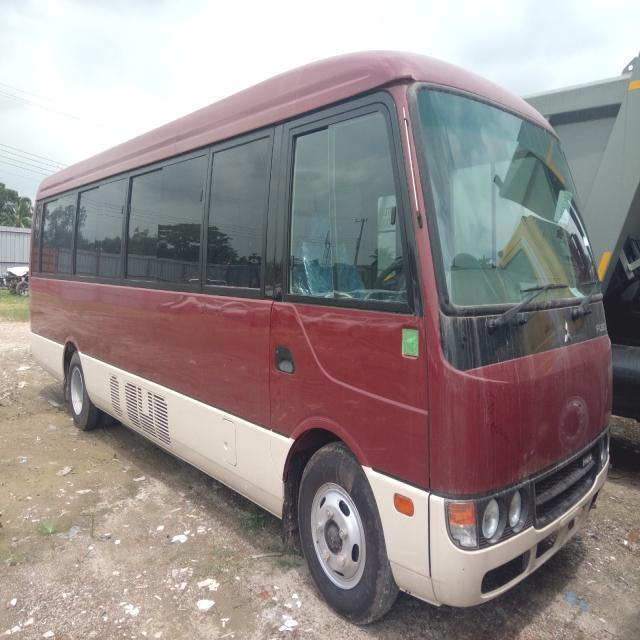Bus: (7, 28, 626, 640)
